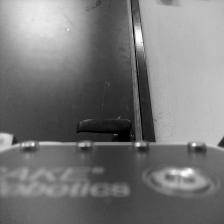Door Handle: (74, 118, 138, 142)
